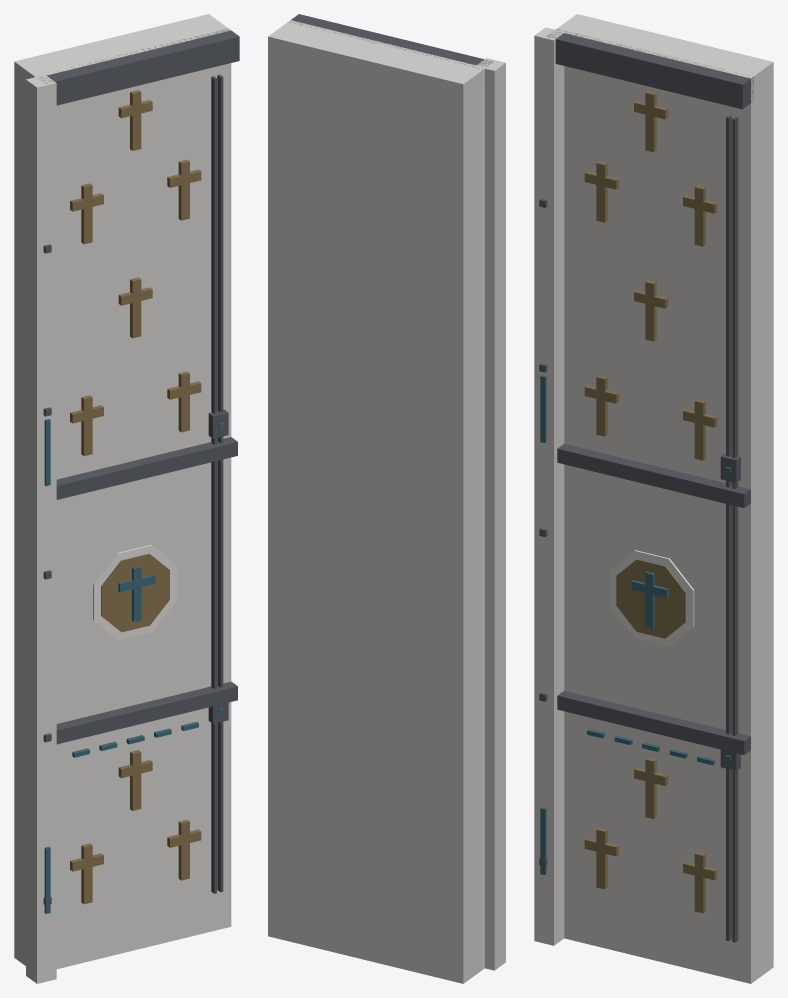
File: Wall_Plain.fbx
The picture shows the model from 3 angles, left to right: view 1: azimuth 30°, elevation 25°; view 2: azimuth 150°, elevation 25°; view 3: azimuth 330°, elevation 25°; orthographic projection.
Parts seen in each view (by area): view 1: SM_Wall_Plain; view 2: SM_Wall_Plain; view 3: SM_Wall_Plain.
Boxes of the visible parts, bbox=[...] form: SM_Wall_Plain: bbox=[14, 14, 239, 983]; SM_Wall_Plain: bbox=[268, 14, 505, 983]; SM_Wall_Plain: bbox=[534, 14, 773, 983].
Size of the model in its own units: 5.25 by 22 by 1.53.
